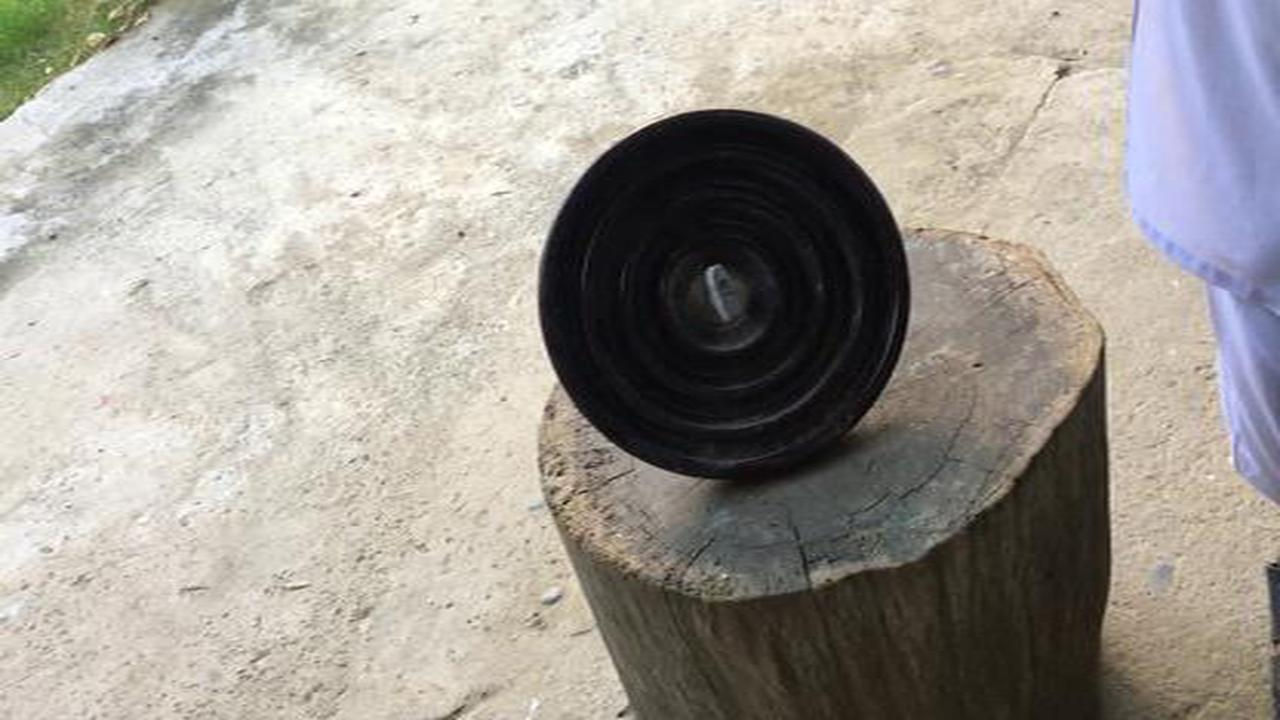insulator_disc: (533, 107, 915, 489)
